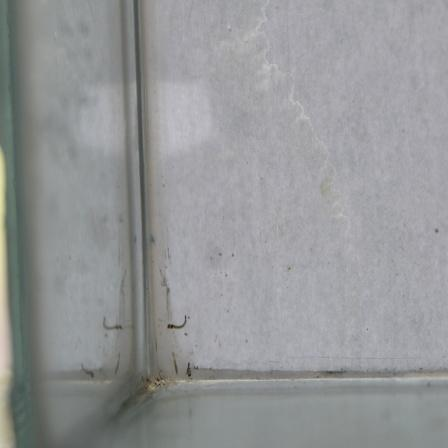Jentik-Nyamuk: (164, 311, 190, 334), (183, 359, 195, 382)
